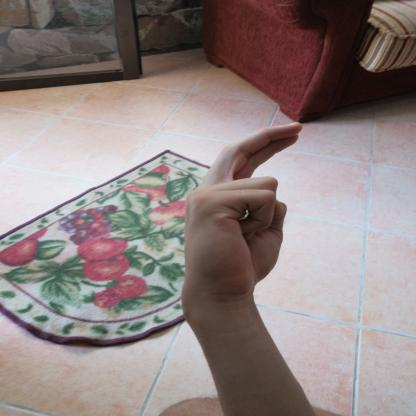ZAY: (166, 116, 312, 319)
